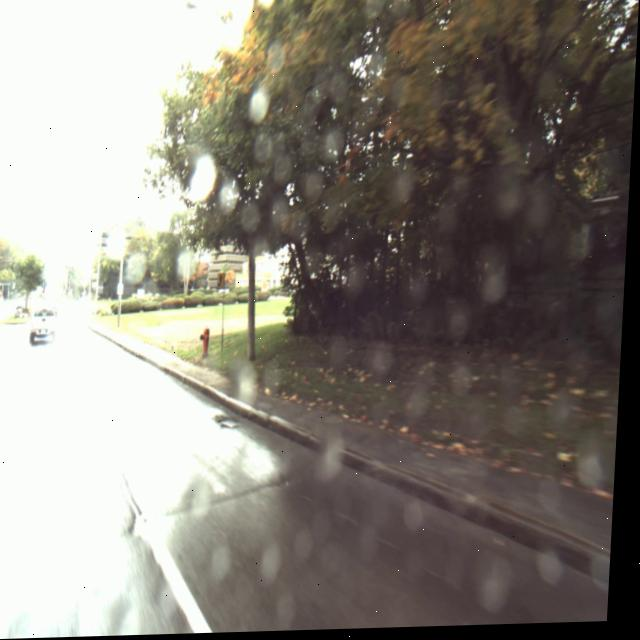car: (34, 309, 67, 345)
